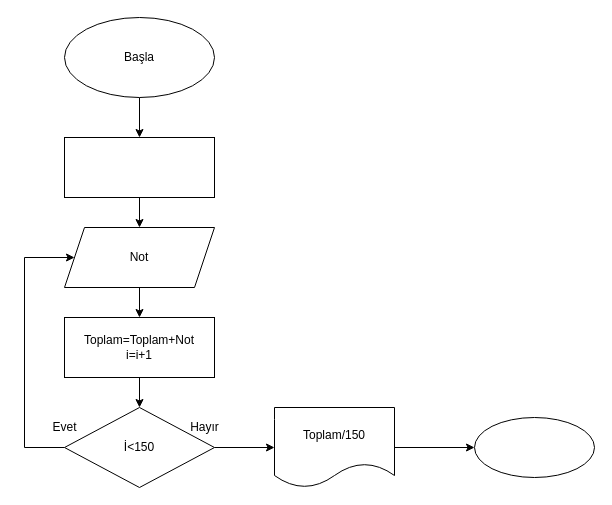
The diagram is 612 pixels wide and 505 high, and some of its shapes have lost their labels. The centre of each missing label's shape, as x and y in pixels:
"Dur" belongs at point (534, 447).
"İ=0,Toplam=0" belongs at point (139, 167).
